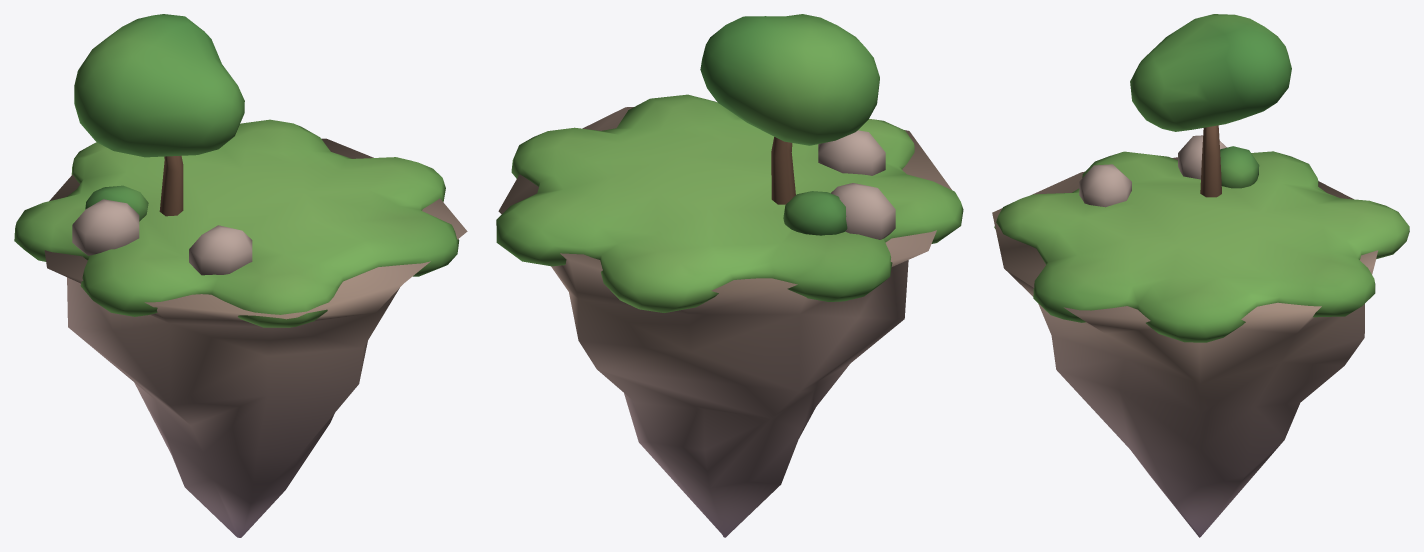
The model's file is env_sky_islet_2_lite.glb.
3 renders of one model, left to right at view 1: azimuth 30°, elevation 25°; view 2: azimuth 150°, elevation 25°; view 3: azimuth 270°, elevation 25°, orthographic. The views are drawn at different scales.
Parts seen in each view (by area): view 1: SM_sky_sky_vc_x0_z0.029; view 2: SM_sky_sky_vc_x0_z0.029; view 3: SM_sky_sky_vc_x0_z0.029.
Part boxes in pixels (box(x1,y1,x2,y2)): SM_sky_sky_vc_x0_z0.029: box(14, 14, 467, 537); SM_sky_sky_vc_x0_z0.029: box(496, 14, 963, 537); SM_sky_sky_vc_x0_z0.029: box(992, 14, 1409, 537).
Size of the model in its own units: 7.47 by 9.48 by 7.45.
